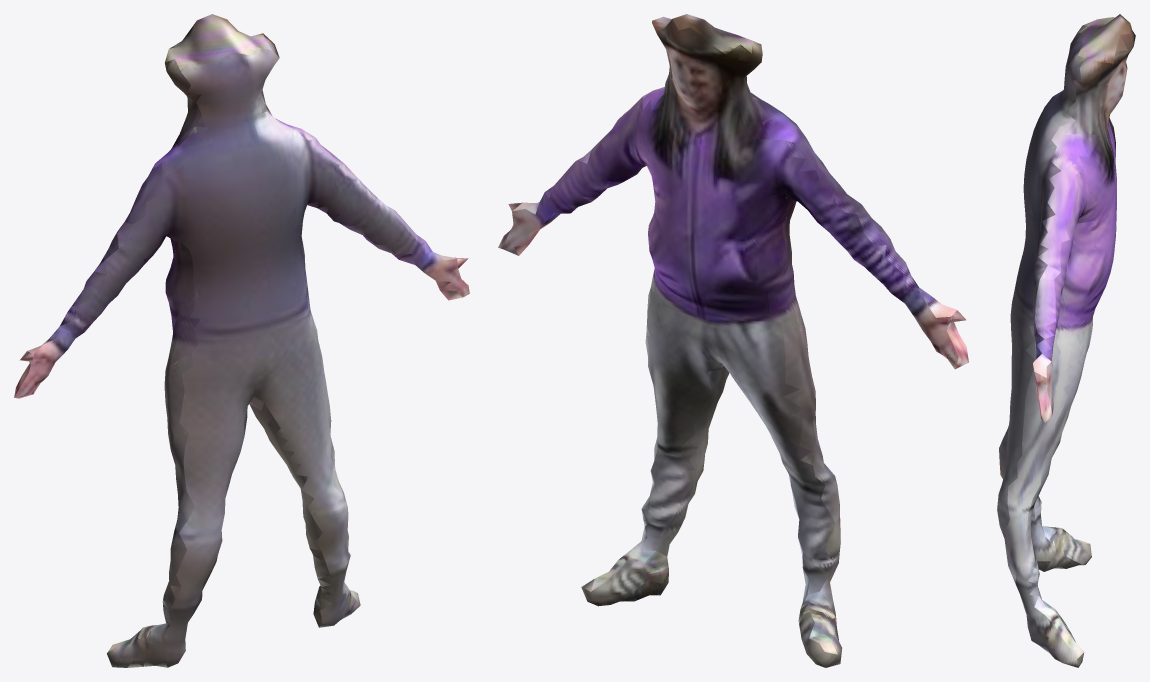
The picture shows the model from 3 angles, left to right: view 1: azimuth 30°, elevation 25°; view 2: azimuth 150°, elevation 25°; view 3: azimuth 270°, elevation 25°; orthographic projection. The views are drawn at different scales.
Visible parts, largest first — view 1: world; view 2: world; view 3: world.
Boxes of the visible parts, left/top/right/bottom form: world: left=14, top=14, right=469, bottom=667; world: left=498, top=14, right=968, bottom=667; world: left=997, top=14, right=1135, bottom=667.
Bounding box in the file's own units: 0.7771 × 0.9993 × 0.2107.
1 material, 1 textured.
